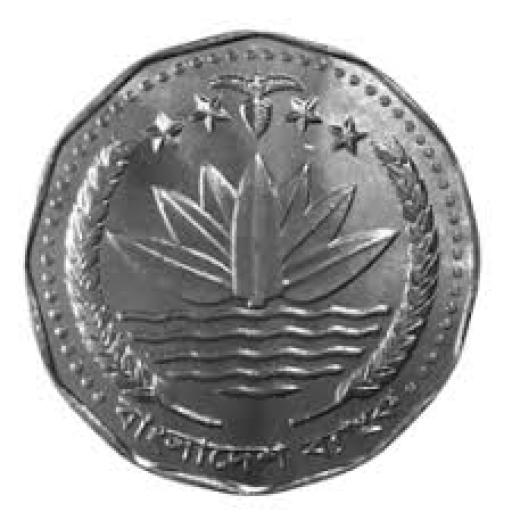5taka: (27, 32, 478, 494)
